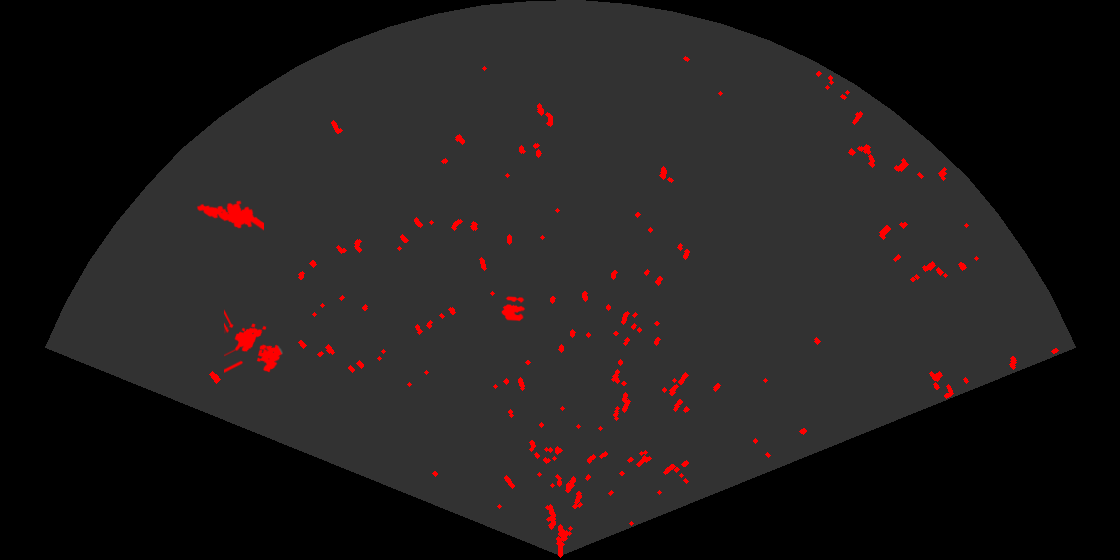ball: (500, 295, 527, 323)
cage: (224, 308, 284, 375)
frogman: (195, 199, 264, 232)
